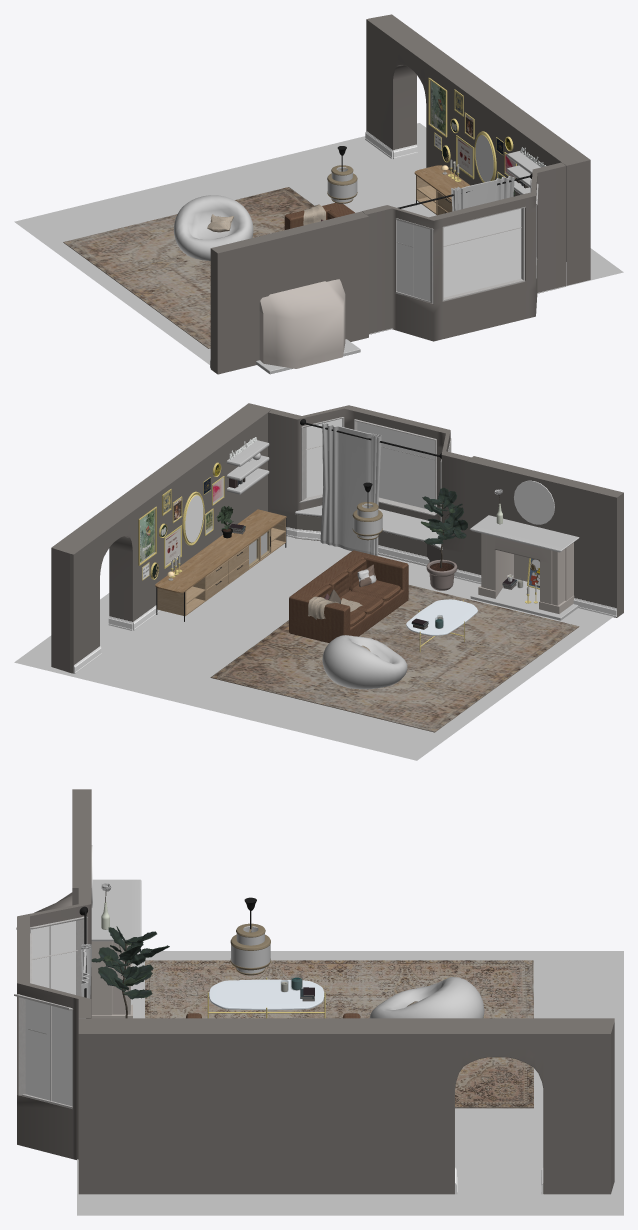
Rendered from shouldwork!.fbx.
The picture shows the model from 3 angles, top to bottom: view 1: azimuth 30°, elevation 25°; view 2: azimuth 150°, elevation 25°; view 3: azimuth 270°, elevation 25°; orthographic projection. The views are drawn at different scales.
Visible parts, largest first — view 1: pPlane1, polySurface2, polySurface3, pCube24, pCube3, pCube10, pCube413, pCube456, pCube415, pCylinder68, pCube342, pCylinder1 (+2 smaller); view 2: pPlane1, pCube3, polySurface2, pCube24, polySurface3, pCylinder68, pCube342, polySurface8, pCube10, pCube413, pCube456, pCube58 (+10 smaller); view 3: polySurface2, pPlane1, pCube3, polySurface3, pCube414, pCube456, pCube9, pCube415, pCube335, pCube58, pCube10, pCube24 (+3 smaller).
Boxes of the visible parts, box(x1,y1,x2,y2) form: pPlane1: box(14, 123, 623, 364); polySurface2: box(366, 14, 590, 285); polySurface3: box(362, 162, 566, 341); pCube24: box(210, 211, 368, 374); pCube3: box(63, 187, 314, 348); pCube10: box(259, 279, 345, 368); pCube413: box(443, 208, 521, 297); pCube456: box(174, 195, 253, 260); pCube415: box(396, 220, 430, 301); pCylinder68: box(414, 165, 470, 215); pCube342: box(451, 176, 514, 211); pCylinder1: box(475, 135, 493, 181); pPlane1: box(14, 536, 613, 760); pCube3: box(210, 585, 579, 732); polySurface2: box(51, 403, 272, 673); pCube24: box(466, 456, 623, 617); polySurface3: box(268, 405, 471, 571); pCylinder68: box(155, 509, 286, 621); pCube342: box(320, 422, 381, 555); polySurface8: box(289, 550, 408, 642); pCube10: box(478, 533, 574, 613); pCube413: box(357, 422, 434, 508); pCube456: box(322, 635, 407, 689); pCube58: box(421, 487, 467, 590); polySurface2: box(78, 1018, 614, 1194); pPlane1: box(77, 951, 623, 1215); pCube3: box(145, 960, 533, 1108); polySurface3: box(17, 887, 91, 1159); pCube414: box(25, 999, 72, 1106); pCube456: box(369, 977, 484, 1018); pCube9: box(209, 979, 324, 1010); pCube415: box(31, 921, 75, 994); pCube335: box(91, 879, 141, 941); pCube58: box(91, 926, 169, 1018); pCube10: box(34, 892, 132, 1018); pCube24: box(72, 789, 91, 1017).
Bounding box in the file's own units: 33.15 × 10.45 × 32.08.
